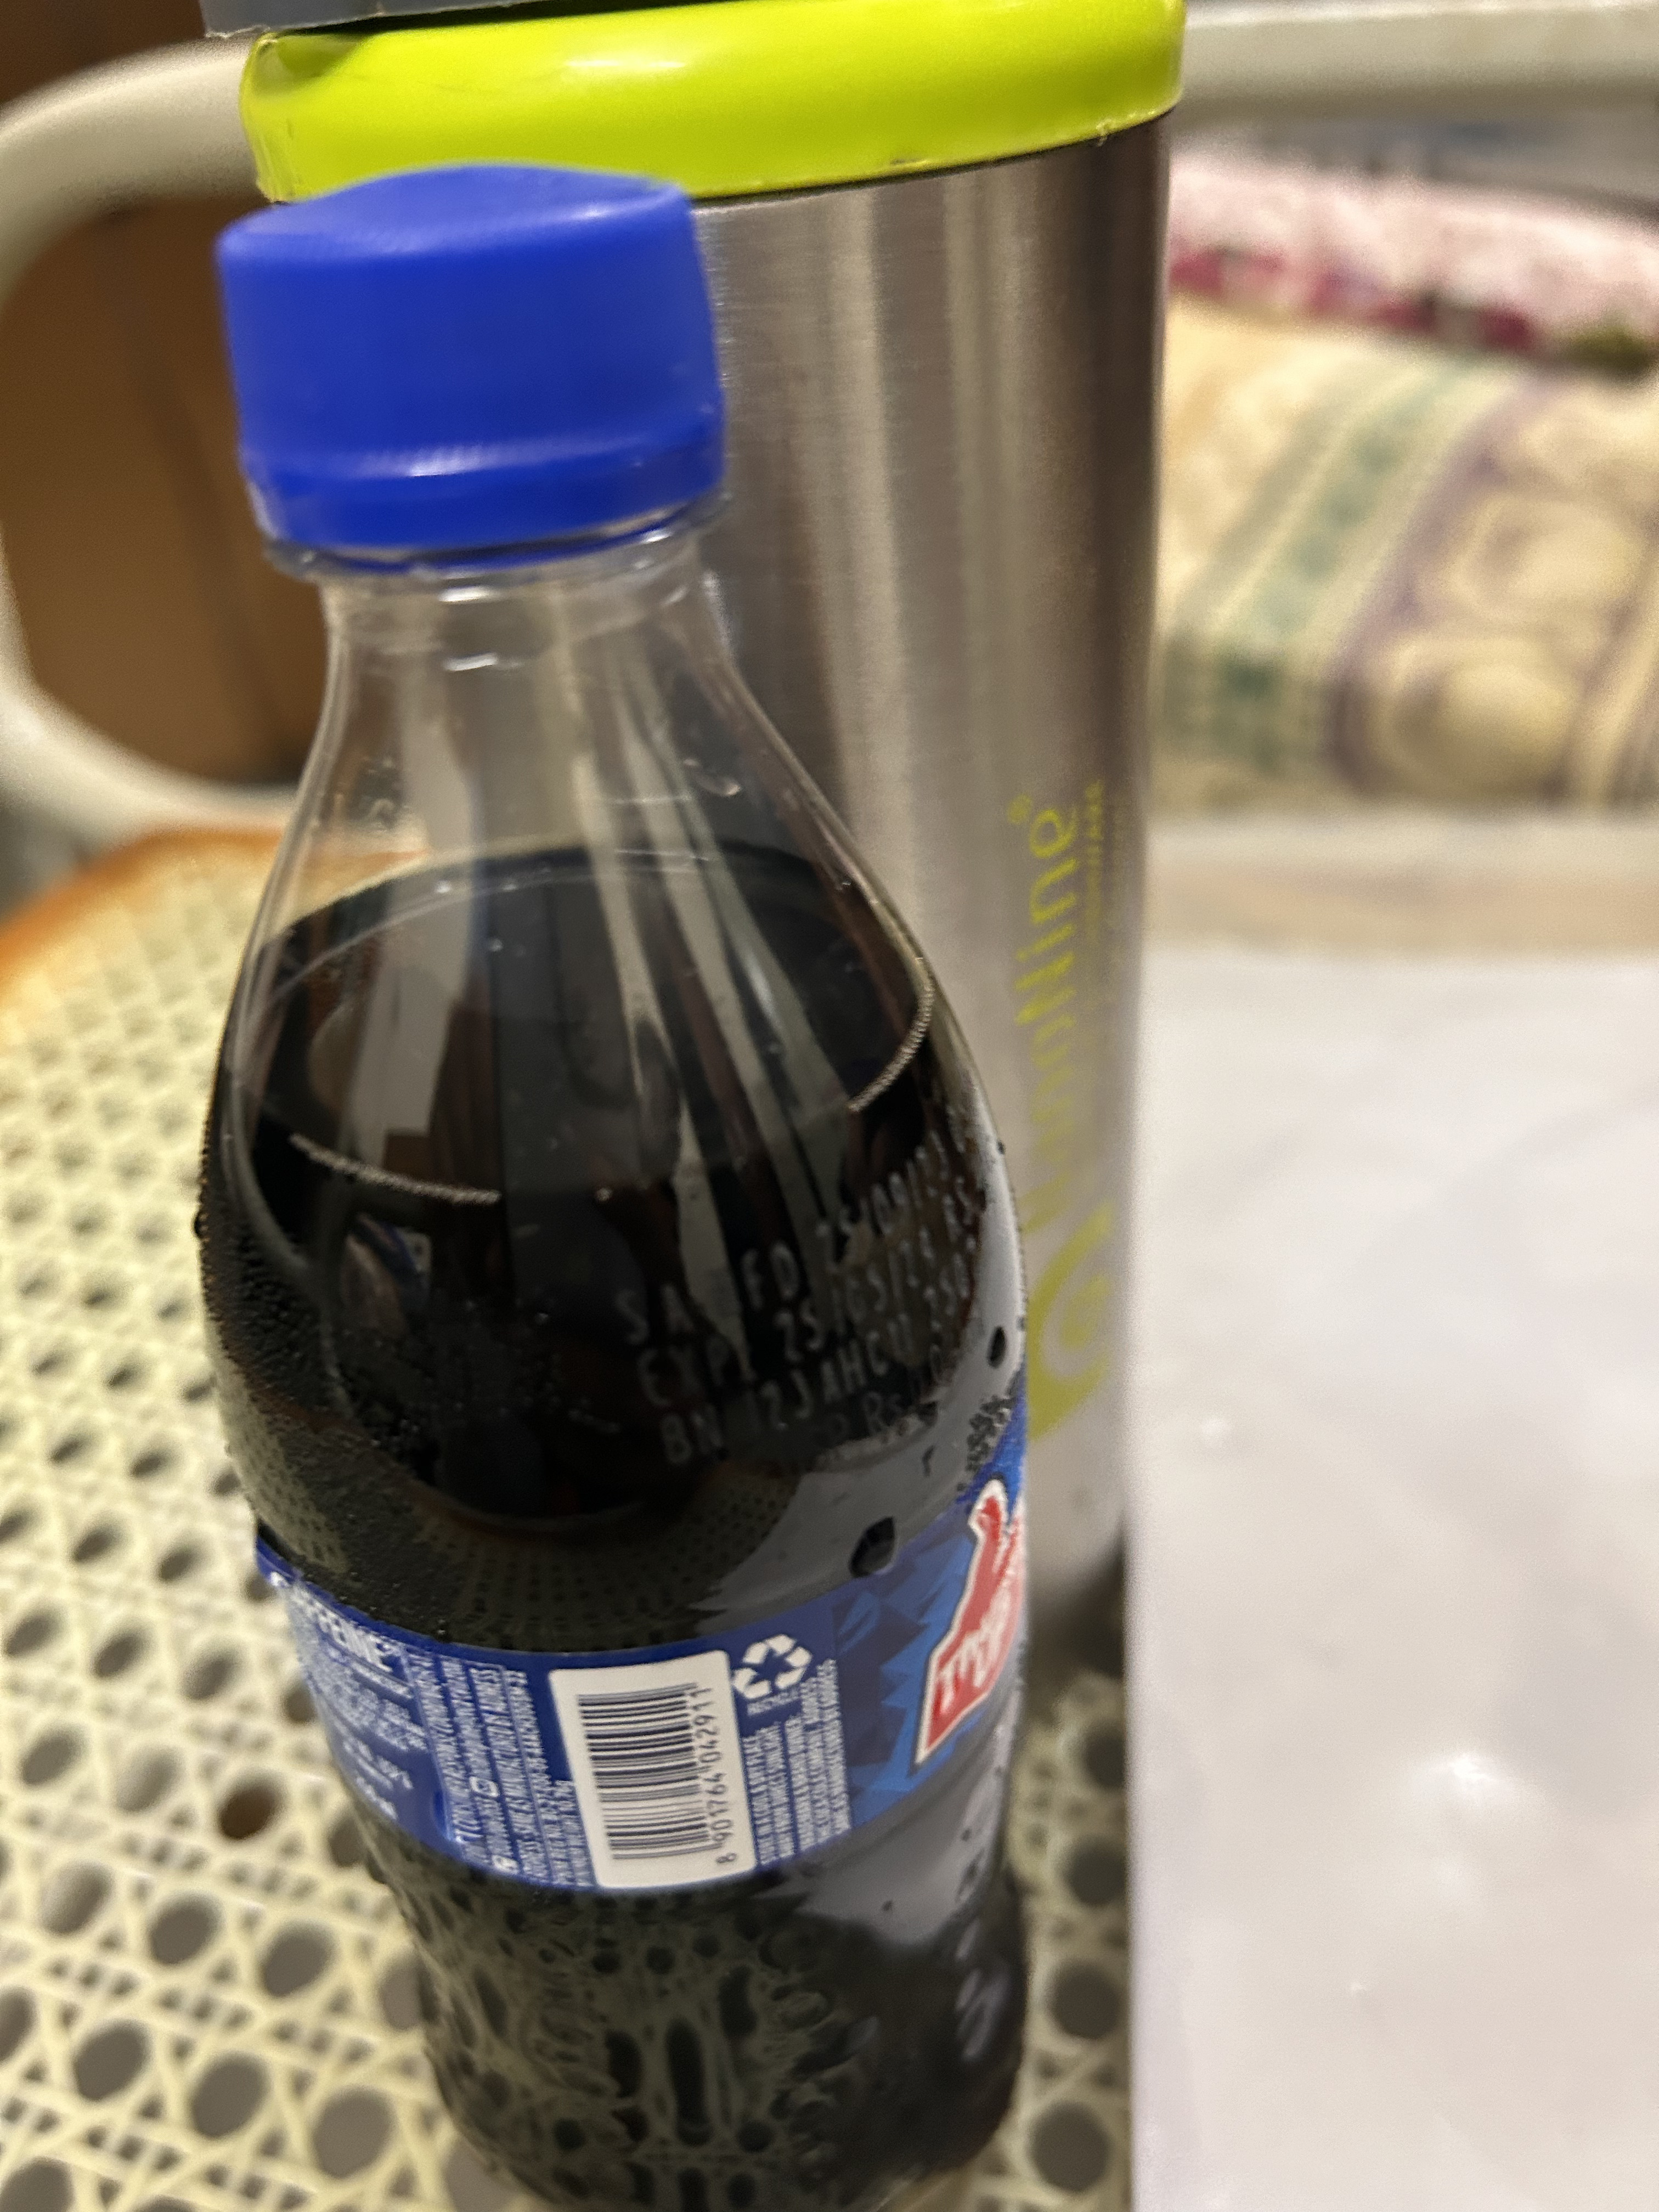sealstable: (200, 172, 751, 745)
